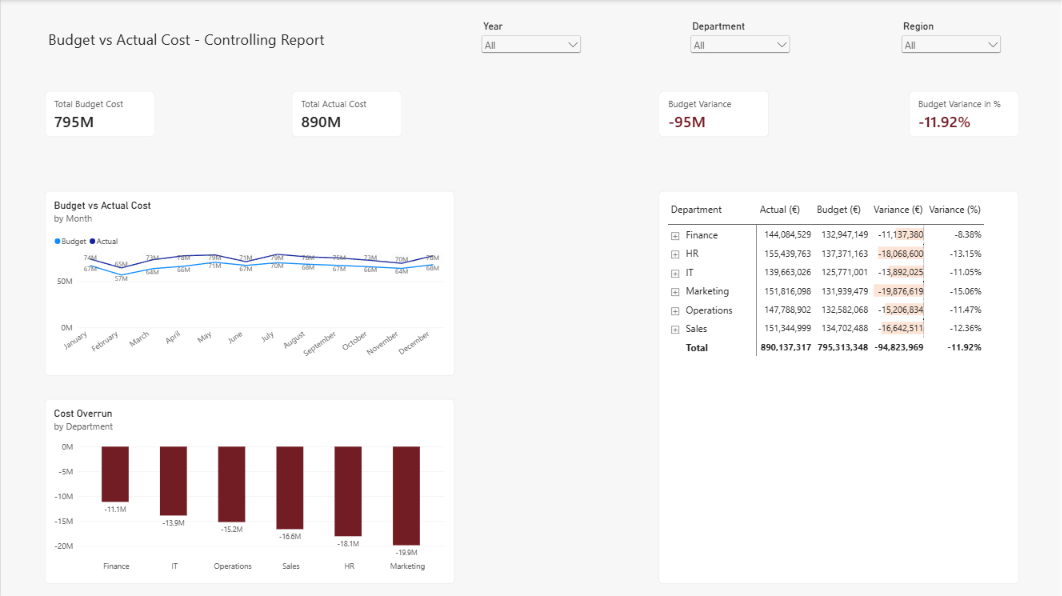

The page's visual inventory and layout, read from the dashboard file:
{"tool":"powerbi","page":{"name":"Page 1","canvas":[1920,1080],"ordinal":0},"visuals":[{"type":"clusteredColumnChart","title":"Cost Overrun","fields":{"Category":["dim_department.department"],"Y":["_measures.variance_eur"]},"box":[79.6,722.1,742,334.8],"z":0},{"type":"lineChart","title":"Budget vs Actual Cost","fields":{"Category":["dim_date.Month"],"Y":["_measures.total_budget","_measures.total_actual"]},"box":[79.6,345.6,742,334.8],"z":1000},{"type":"pivotTable","fields":{"Rows":["dim_department.department","dim_category.category"],"Values":["_measures.total_actual","_measures.total_budget","_measures.variance_eur","_measures.variance_pct"]},"box":[1190.8,345.6,651.5,711.2],"z":2000},{"type":"cardVisual","fields":{"Data":["_measures.total_actual"]},"box":[526.6,164.7,199.1,83.2],"z":3000},{"type":"cardVisual","title":"Total ","fields":{"Data":["_measures.total_budget"]},"box":[79.6,164.7,199.1,83.2],"z":4000},{"type":"cardVisual","fields":{"Data":["_measures.variance_eur"]},"box":[1190.8,164.7,199.1,83.2],"z":5000},{"type":"cardVisual","fields":{"Data":["_measures.variance_pct"]},"box":[1643.2,164.7,199.1,83.2],"z":6000},{"type":"textbox","box":[79.6,52.5,512.1,72.4],"z":7000},{"type":"slicer","fields":{"Values":["dim_department.department"]},"box":[1243.2,36.2,190,92.3],"z":8000},{"type":"slicer","fields":{"Values":["dim_region.region"]},"box":[1625.1,36.2,190,92.3],"z":9000},{"type":"slicer","fields":{"Values":["dim_date.Year"]},"box":[865,36.2,190,92.3],"z":10000}]}

Visuals, with their boxes in screenshot pixels (x1, y1, x2, y2), scaled from the page's 1920x1080 canvas onto the 1062x596 screenshot:
"Cost Overrun" clusteredColumnChart: 44 398 454 583
"Budget vs Actual Cost" lineChart: 44 191 454 375
pivotTable - dim_department.department x dim_category.category: 659 191 1019 583
cardVisual - _measures.total_actual: 291 91 401 137
"Total " cardVisual: 44 91 154 137
cardVisual - _measures.variance_eur: 659 91 769 137
cardVisual - _measures.variance_pct: 909 91 1019 137
textbox: 44 29 327 69
slicer - dim_department.department: 688 20 793 71
slicer - dim_region.region: 899 20 1004 71
slicer - dim_date.Year: 478 20 584 71
